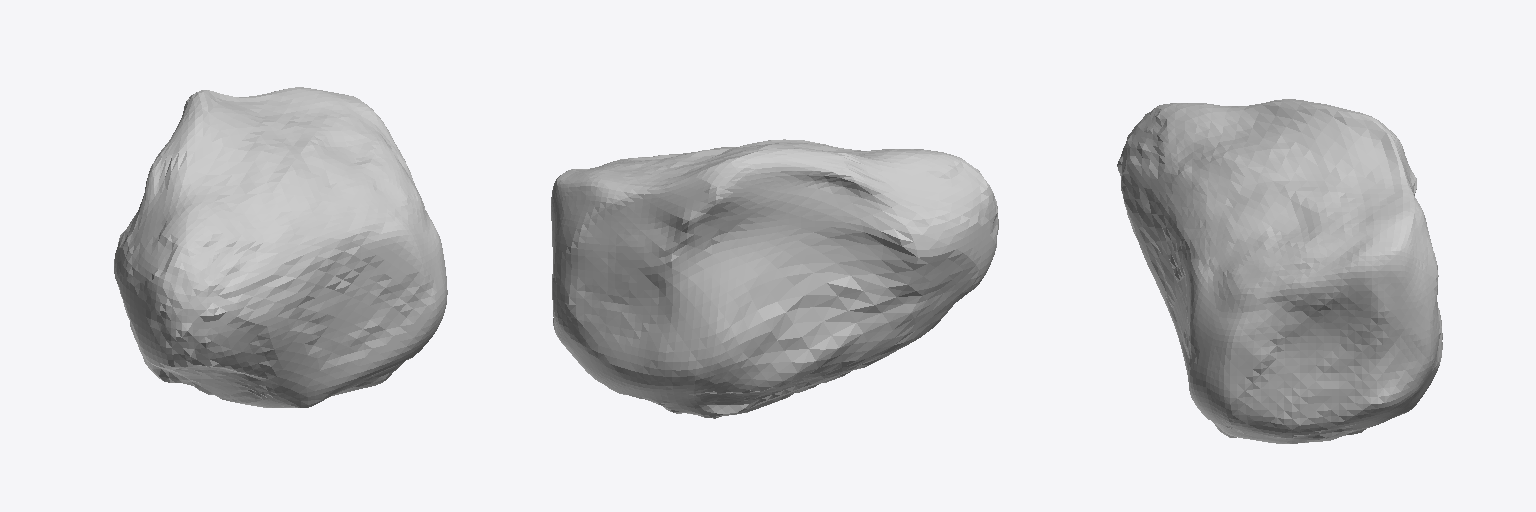
The picture shows the model from 3 angles: view 1: azimuth 30°, elevation 25°; view 2: azimuth 150°, elevation 25°; view 3: azimuth 270°, elevation 25°; orthographic projection.
Visible parts, largest first — view 1: r3highpoly_Cube; view 2: r3highpoly_Cube; view 3: r3highpoly_Cube.
Boxes of the visible parts, x1=… form: r3highpoly_Cube: x1=114, y1=87, x2=447, y2=407; r3highpoly_Cube: x1=551, y1=139, x2=998, y2=418; r3highpoly_Cube: x1=1117, y1=99, x2=1442, y2=443.
Size of the model in its own units: 3.02 by 2.32 by 2.56.